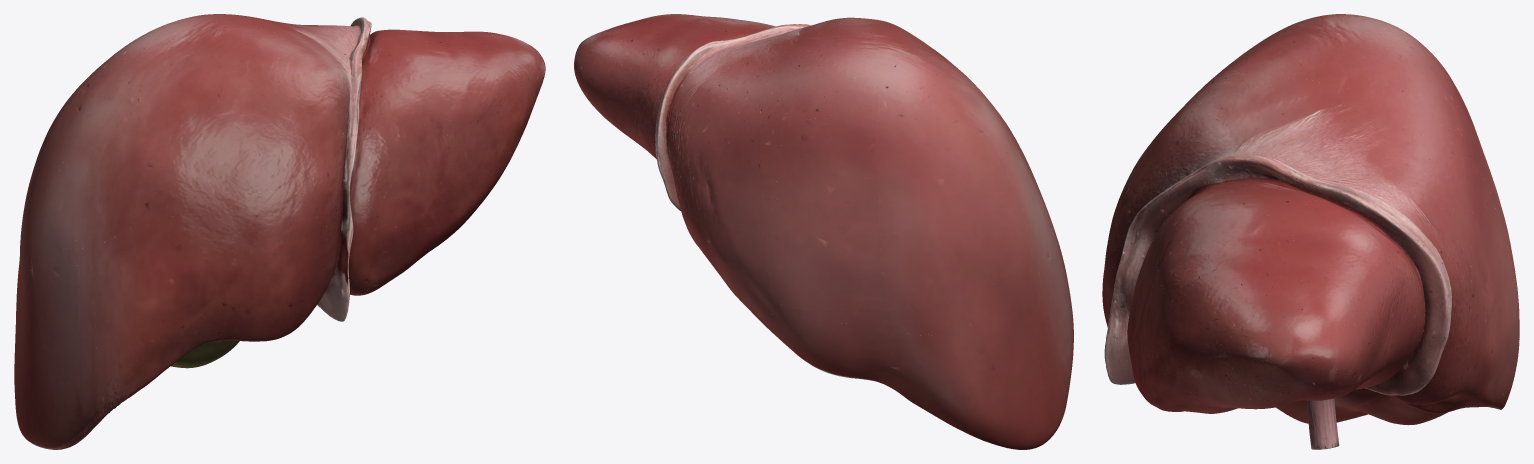
File: human_liver_couinaud_final.glb
3 renders of one model, left to right at view 1: azimuth 30°, elevation 25°; view 2: azimuth 150°, elevation 25°; view 3: azimuth 270°, elevation 25°, orthographic. The views are drawn at different scales.
Visible parts, largest first — view 1: Segment_VIII_Right_Anterosuperior, Segment_V_Right_Anteroinferior, Segment_IV_Left_Medial, Segment_III_Left_Anterolateral, Segment_VI_Right_Posteroinferior, Segment_VII_Right_Posterosuperior, Segment_II_Left_Posterolateral; view 2: Segment_VII_Right_Posterosuperior, Segment_VI_Right_Posteroinferior, Segment_VIII_Right_Anterosuperior, Segment_I_Caudate, Segment_II_Left_Posterolateral, Segment_IV_Left_Medial, Segment_III_Left_Anterolateral; view 3: Segment_IV_Left_Medial, Segment_II_Left_Posterolateral, Segment_III_Left_Anterolateral, Segment_I_Caudate, Segment_VIII_Right_Anterosuperior, Segment_V_Right_Anteroinferior, Segment_VI_Right_Posteroinferior, Segment_VII_Right_Posterosuperior.
Boxes of the visible parts, box(x1,y1,x2,y2) form: Segment_VIII_Right_Anterosuperior: box(58, 14, 287, 251); Segment_V_Right_Anteroinferior: box(75, 170, 369, 406); Segment_IV_Left_Medial: box(261, 18, 452, 293); Segment_III_Left_Anterolateral: box(410, 35, 545, 265); Segment_VI_Right_Posteroinferior: box(14, 257, 116, 449); Segment_VII_Right_Posterosuperior: box(19, 74, 91, 272); Segment_II_Left_Posterolateral: box(313, 17, 511, 43); Segment_VII_Right_Posterosuperior: box(769, 112, 1051, 337); Segment_VI_Right_Posteroinferior: box(764, 231, 1073, 449); Segment_VIII_Right_Anterosuperior: box(774, 19, 1048, 218); Segment_I_Caudate: box(679, 83, 786, 326); Segment_II_Left_Posterolateral: box(574, 30, 735, 211); Segment_IV_Left_Medial: box(711, 17, 871, 94); Segment_III_Left_Anterolateral: box(574, 14, 737, 137); Segment_IV_Left_Medial: box(1110, 77, 1430, 411); Segment_II_Left_Posterolateral: box(1288, 170, 1472, 395); Segment_III_Left_Anterolateral: box(1134, 213, 1385, 413); Segment_I_Caudate: box(1365, 124, 1518, 413); Segment_VIII_Right_Anterosuperior: box(1185, 14, 1461, 132); Segment_V_Right_Anteroinferior: box(1102, 209, 1362, 449); Segment_VI_Right_Posteroinferior: box(1276, 336, 1519, 425); Segment_VII_Right_Posterosuperior: box(1436, 58, 1519, 345).
Size of the model in its own units: 0.22 by 0.1574 by 0.1224.
1 material, 1 textured.
